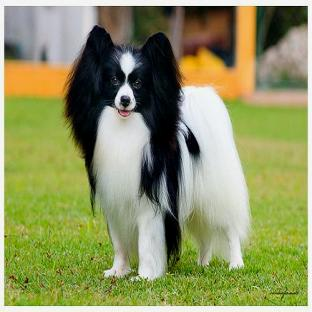Animal: (64, 26, 249, 278)
